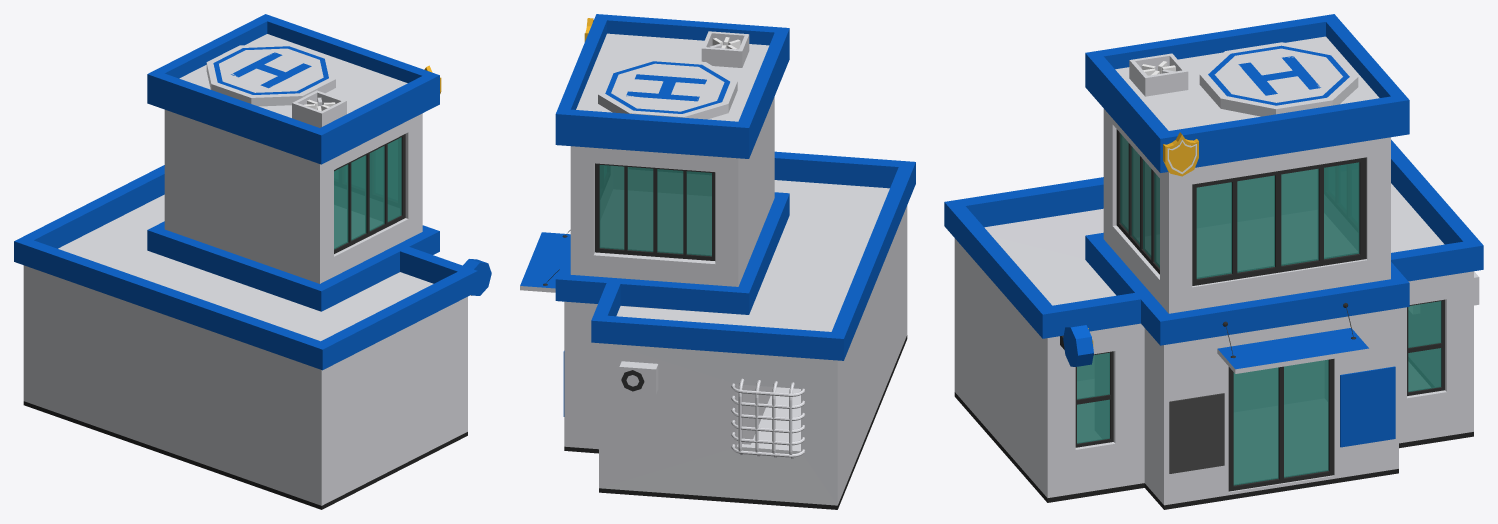
The model's file is policeStation.gltf.
The picture shows the model from 3 angles, left to right: view 1: azimuth 30°, elevation 25°; view 2: azimuth 150°, elevation 25°; view 3: azimuth 270°, elevation 25°; orthographic projection. The views are drawn at different scales.
Parts seen in each view (by area): view 1: police station, zona elicottero, vetri, Cube.006_texture_0, Cube_texture_0, stemma circolare; view 2: police station, vetri, zona elicottero, Cube.006_texture_0, Cube.001_texture_0, grate orizzontali, Cube_texture_0, condizionatore, Cylinder; view 3: police station, vetri, zona elicottero, Cube.005_texture_0, Cube.010_texture_0, Cube.011_texture_0, Cube.001_texture_0, Cube.004_texture_0, Cube.003_texture_0, Cube_texture_0, Cube.006_texture_0, Circle.001 (+1 smaller).
Boxes of the visible parts, x1,y1,x2,y2 form: police station: (14,14,477,509); zona elicottero: (206,43,335,106); vetri: (334,137,401,249); Cube.006_texture_0: (334,134,405,253); Cube_texture_0: (292,90,346,127); stemma circolare: (463,259,491,295); police station: (555,14,915,509); vetri: (599,165,711,256); zona elicottero: (598,58,737,119); Cube.006_texture_0: (595,163,715,260); Cube.001_texture_0: (520,232,570,292); grate orizzontali: (731,383,804,457); Cube_texture_0: (701,31,749,67); condizionatore: (619,361,658,394); Cylinder: (738,378,794,458); police station: (944,14,1483,509); vetri: (1077,133,1441,485); zona elicottero: (1199,42,1358,116); Cube.005_texture_0: (1192,157,1366,285); Cube.010_texture_0: (1340,366,1395,447); Cube.011_texture_0: (1169,393,1224,473); Cube.001_texture_0: (1217,328,1369,373); Cube.004_texture_0: (1228,359,1334,491); Cube.003_texture_0: (1075,299,1444,447); Cube_texture_0: (1129,53,1188,96); Cube.006_texture_0: (1116,129,1159,274); Circle.001: (1163,132,1198,176).
Bounding box in the file's own units: 0.6859 × 0.6078 × 0.7831.
Materials: 3 (2 with a texture image).
